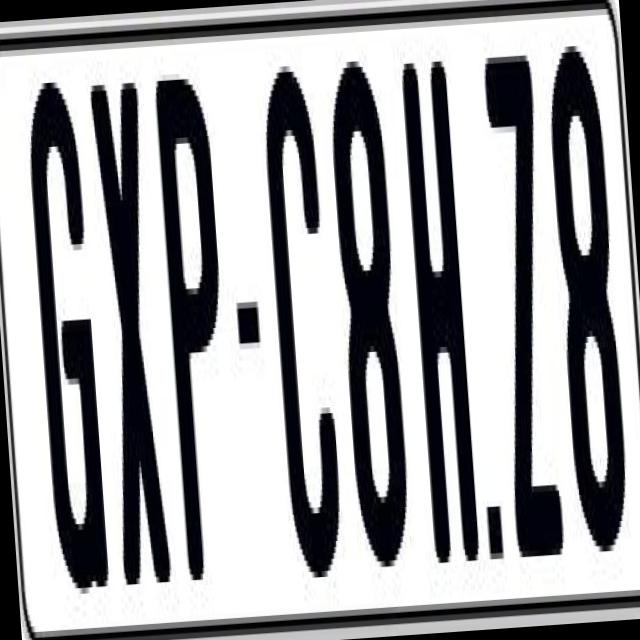8: (540, 44, 636, 582), (325, 41, 419, 556)
C: (256, 58, 351, 602)
G: (22, 69, 114, 612)
H: (399, 49, 482, 568)
P: (153, 65, 244, 592)
X: (89, 75, 173, 608)
Z: (478, 54, 568, 558)
